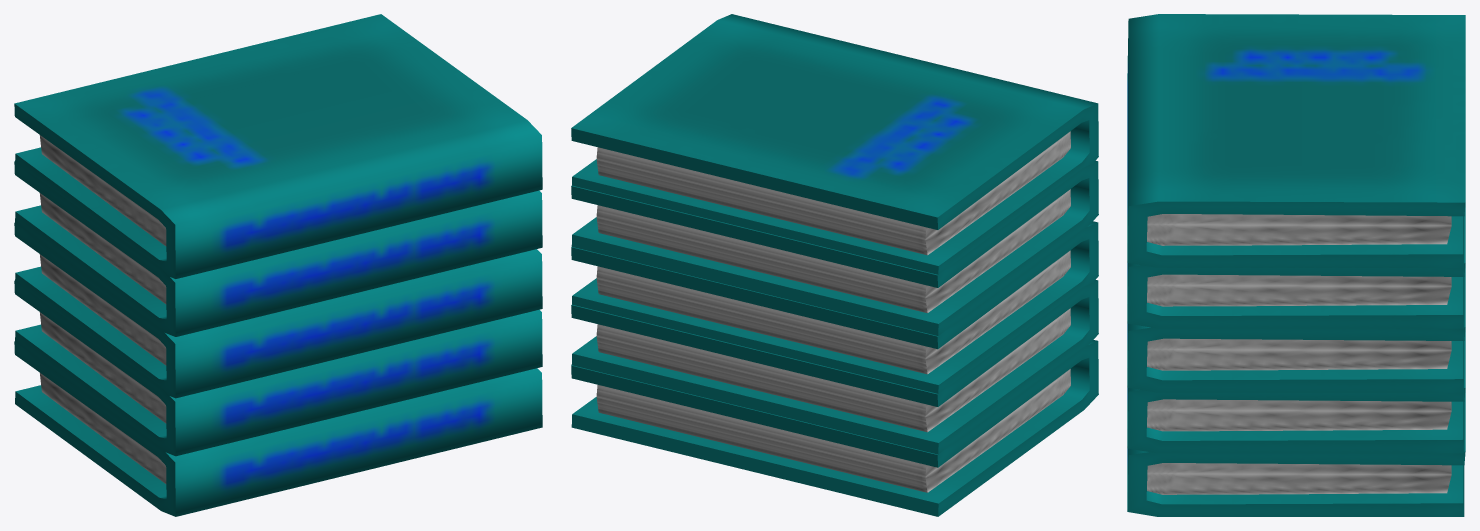
Rendered from PackBrewingBook.fbx.
3 views of the same model, side by side, from view 1: azimuth 30°, elevation 25°; view 2: azimuth 150°, elevation 25°; view 3: azimuth 270°, elevation 25° (orthographic). The views are drawn at different scales.
Visible parts, largest first — view 1: BookClosed.001; view 2: BookClosed.001; view 3: BookClosed.001.
Part boxes in pixels (<box>): BookClosed.001: <box>14,14,542,516</box>; BookClosed.001: <box>571,14,1098,516</box>; BookClosed.001: <box>1127,14,1465,516</box>.
Bounding box in the file's own units: 0.3771 × 0.2958 × 0.2873.
